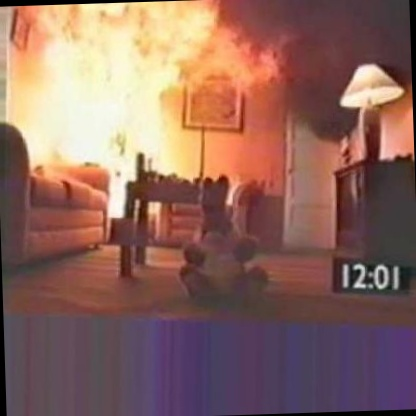fire: (0, 1, 247, 231)
